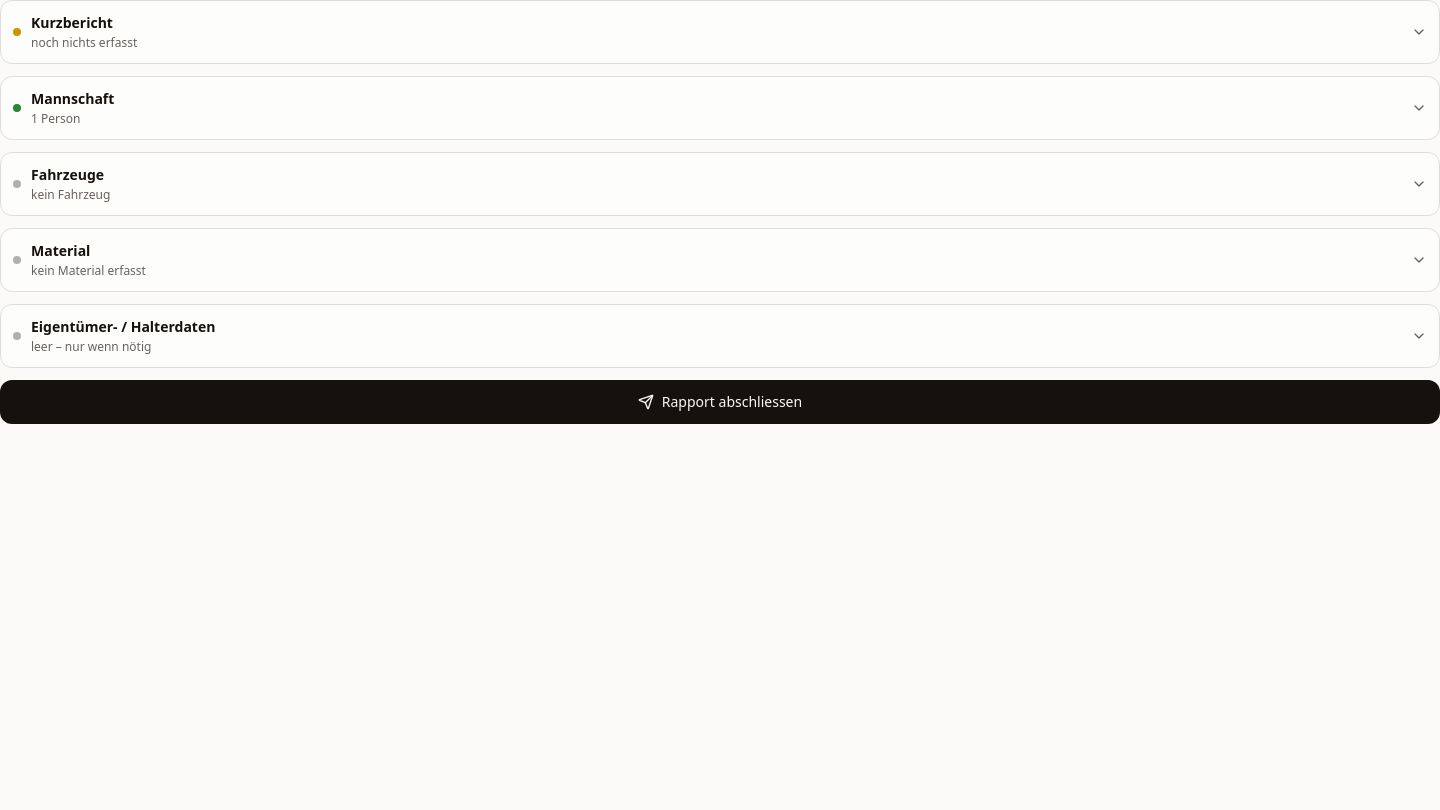
Test: the Abschluss question (UX-PHONE-05) › a checklist section opens and rings, but takes no focus
The image size is (1440, 810).
Step 1. Click the button "Rapport abschliessen" → (720, 402), box [0,380,1439,424]
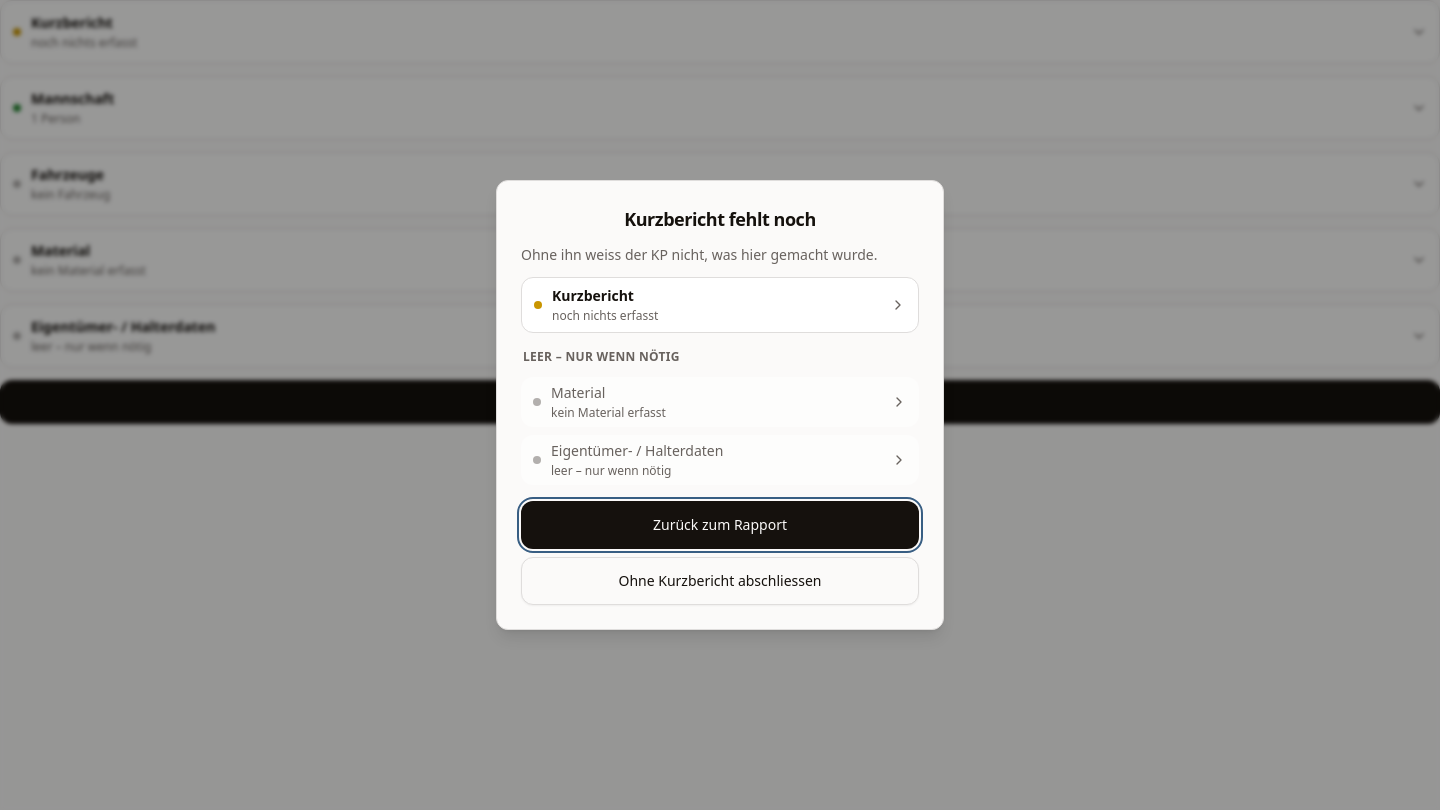
Step 2. Click the button "Material kein Material erfasst" → (578, 392), box [521,377,919,427]
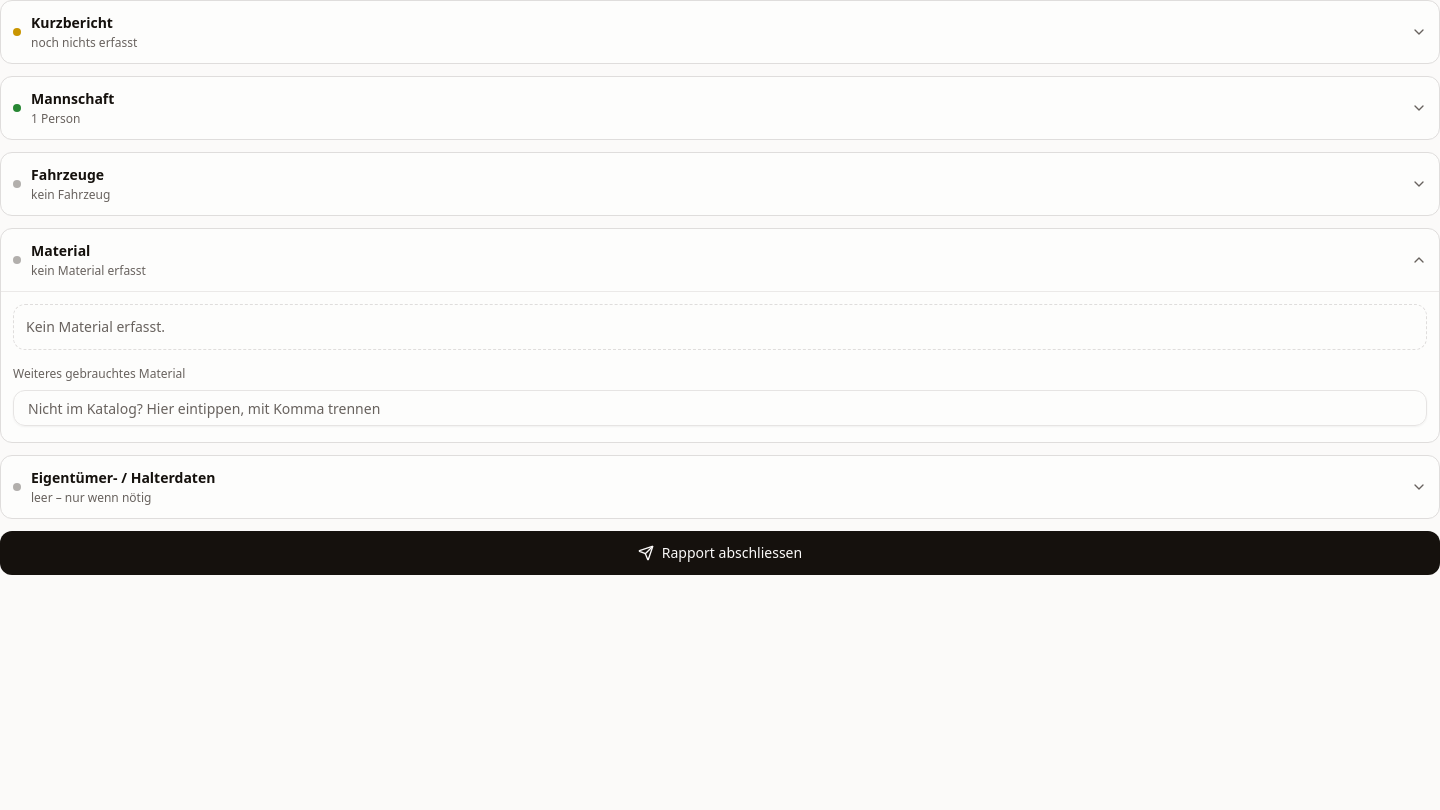
Result: the button "Material kein Material erfasst" is expanded at [1,229,1439,291]
